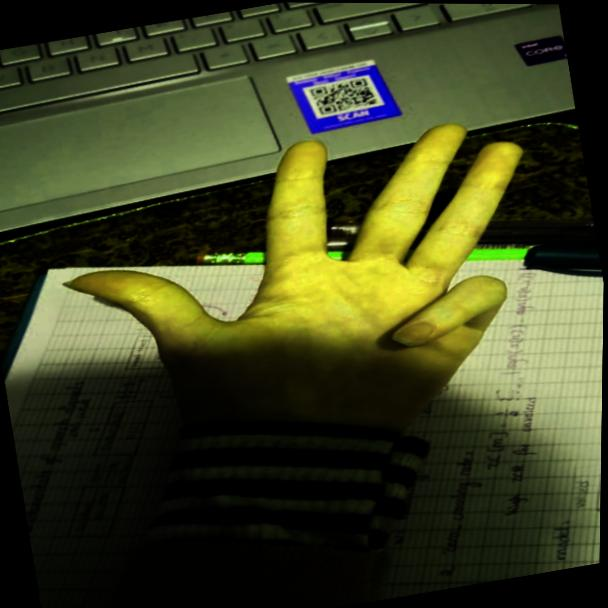five: (53, 98, 572, 484)
